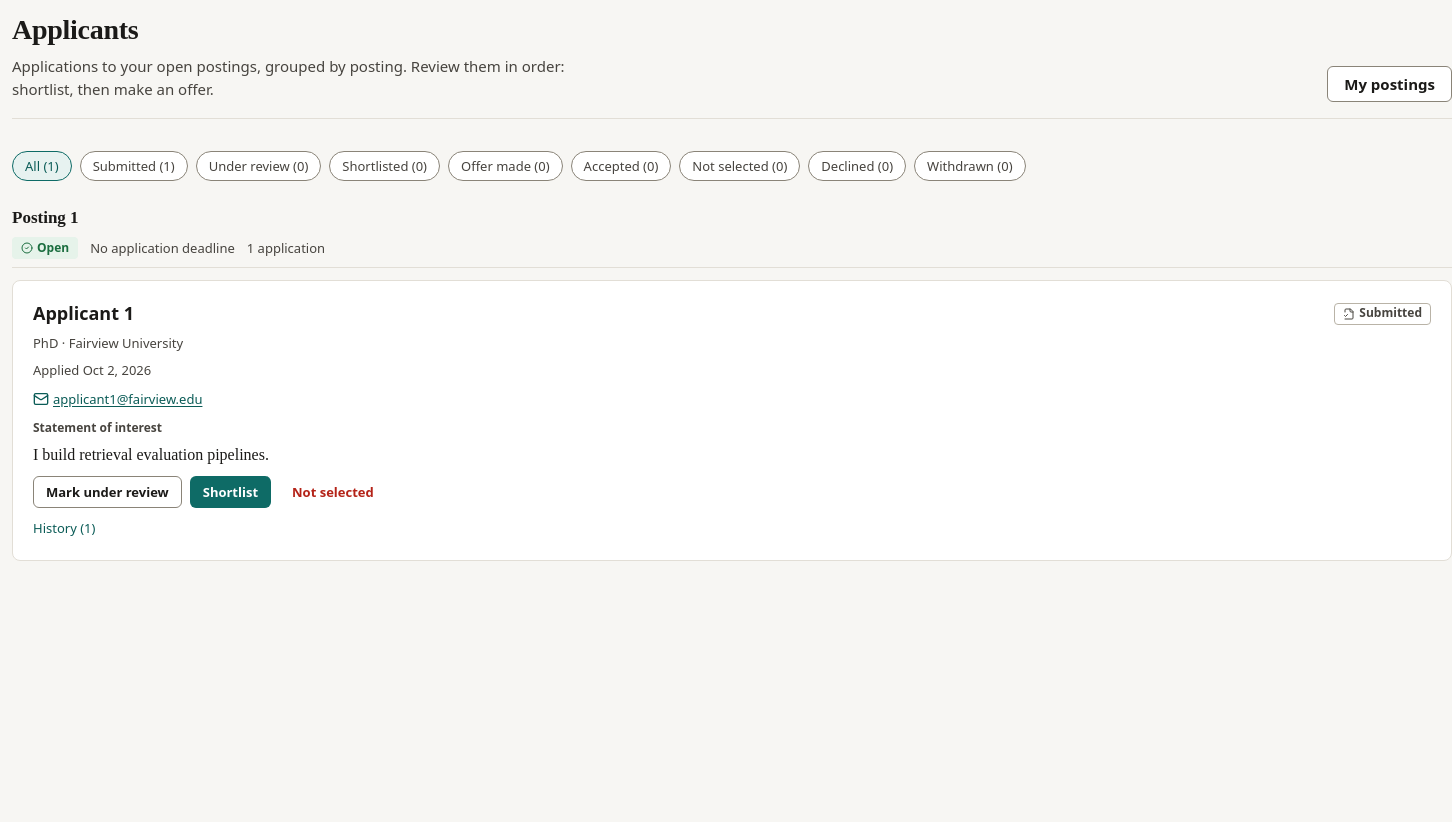
Test: decisions › a refused decision leaves the application as the server last confirmed it, and says so
Click the button "Shortlist": (230, 492) 190,476 -> 271,508
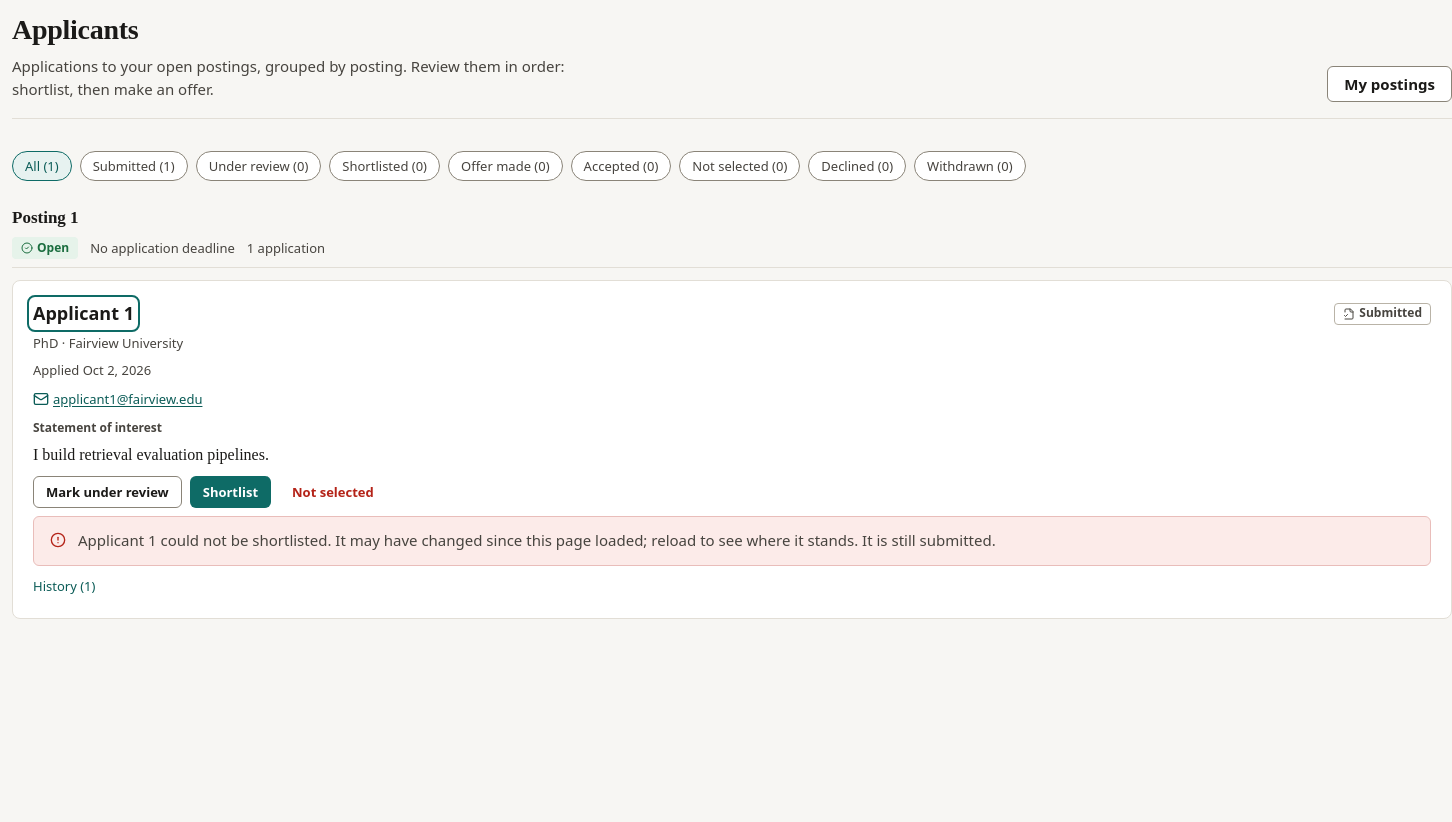
Expected: the message does not show "SUBMITTED", 920,530 -> 992,550
Result: the message shows "Applicant 1 could not be shortlisted." at 78,530 -> 858,550
Result: the message shows "It is still submitted." at 33,516 -> 1431,566
